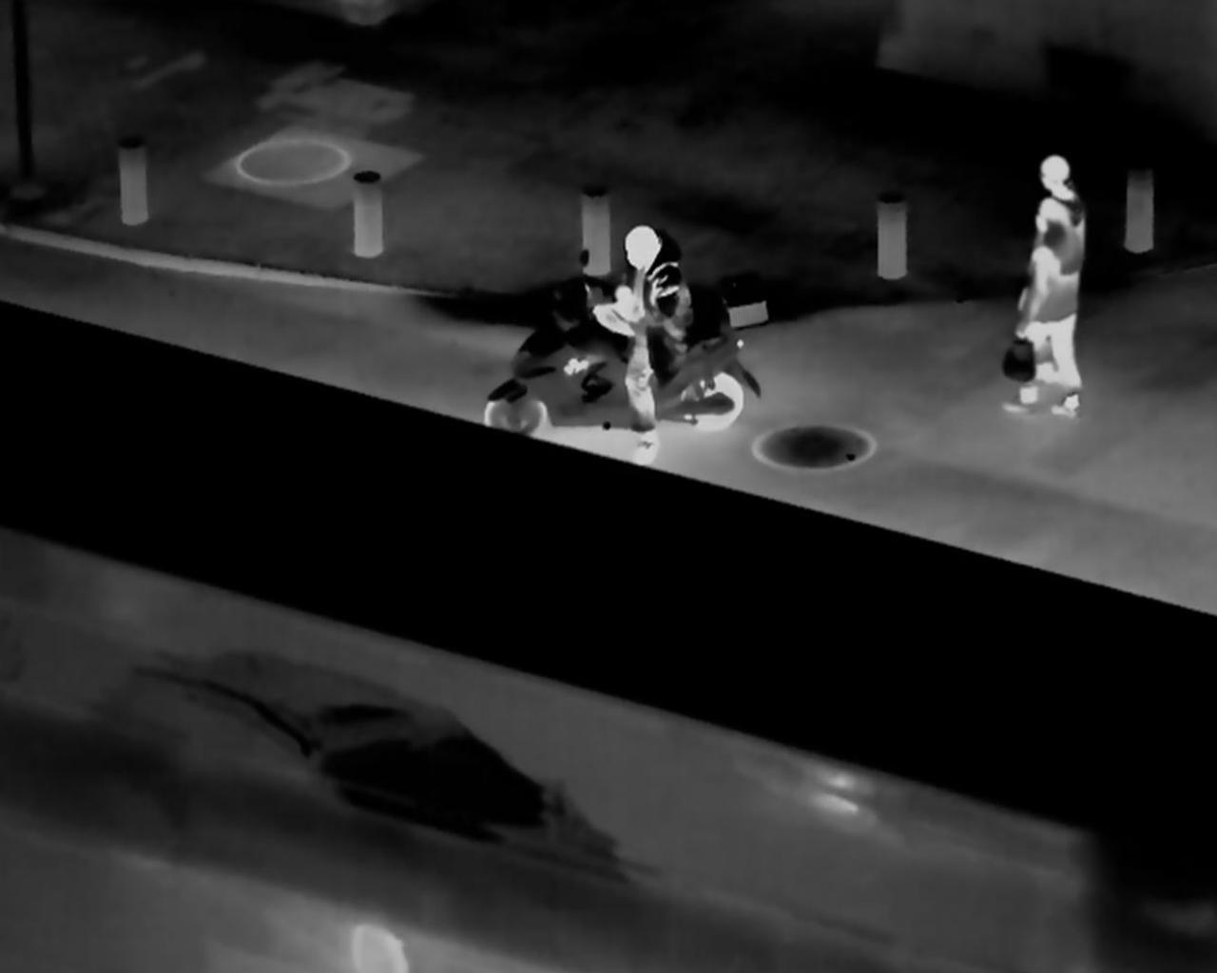person: (589, 214, 699, 464), (1014, 202, 1088, 420), (1028, 143, 1093, 232)
